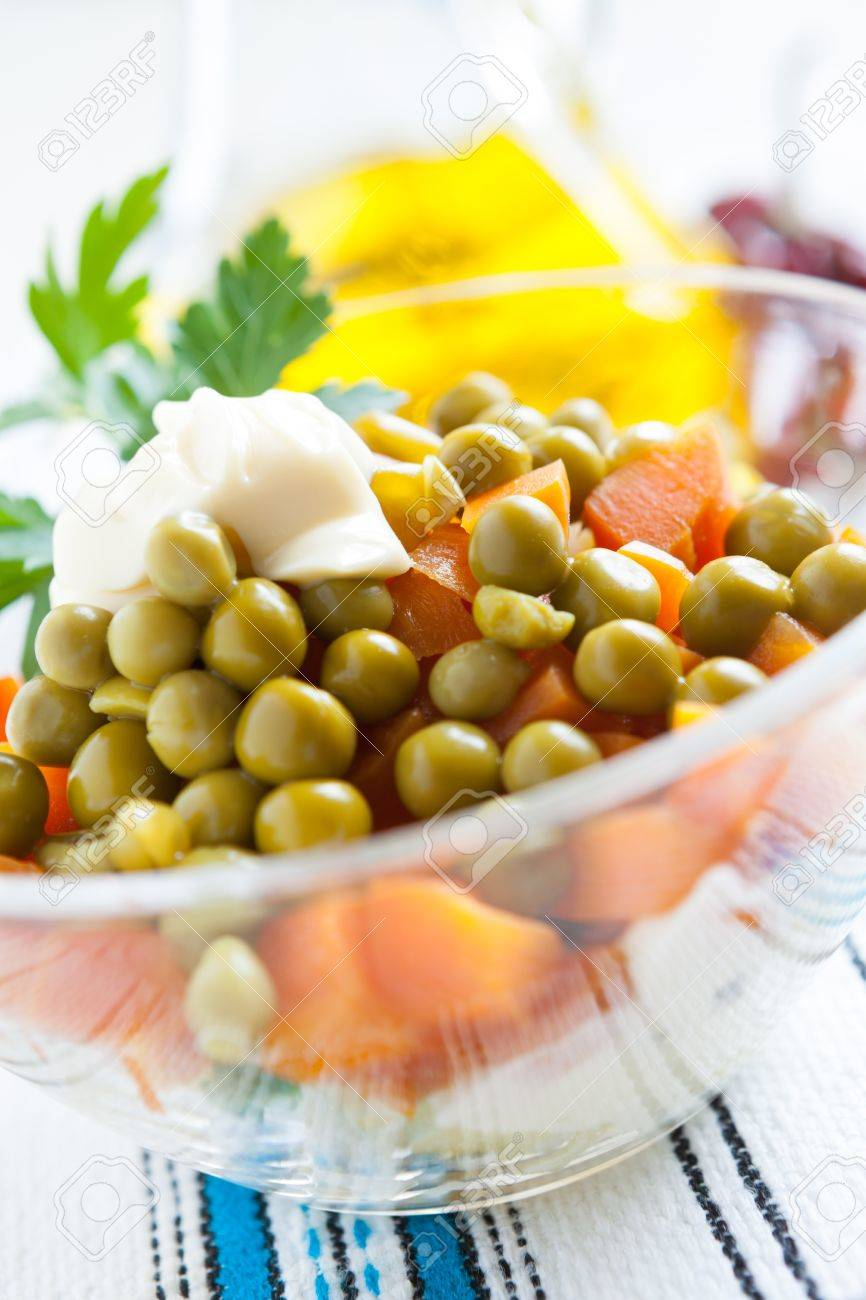boiled peas: (102, 575, 418, 841), (474, 541, 736, 725)
